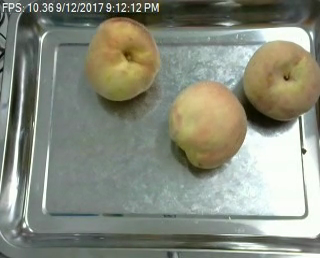Peach: (167, 80, 248, 168), (84, 16, 159, 102), (242, 39, 319, 121)
